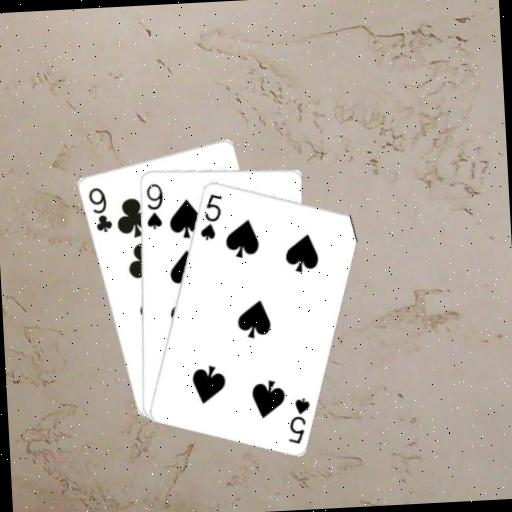5S: (283, 394, 314, 446), (196, 190, 226, 242)
9C: (84, 183, 114, 235)
9S: (142, 180, 166, 232)
